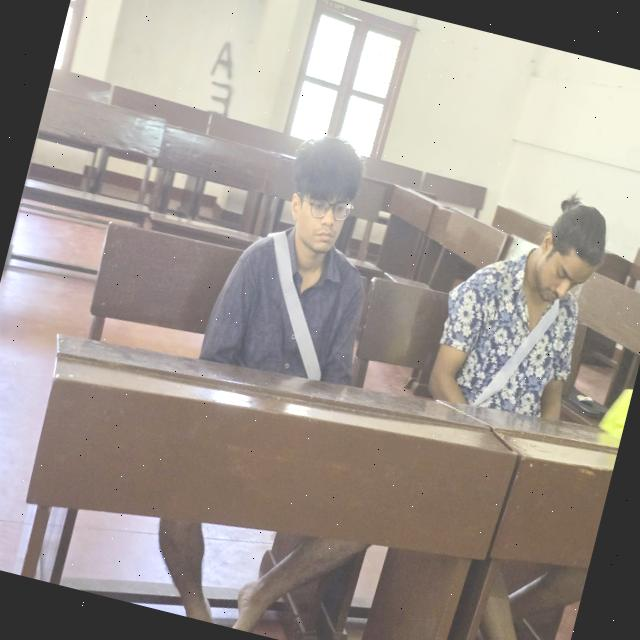seatbelt: (441, 274, 594, 427), (221, 240, 352, 391)
